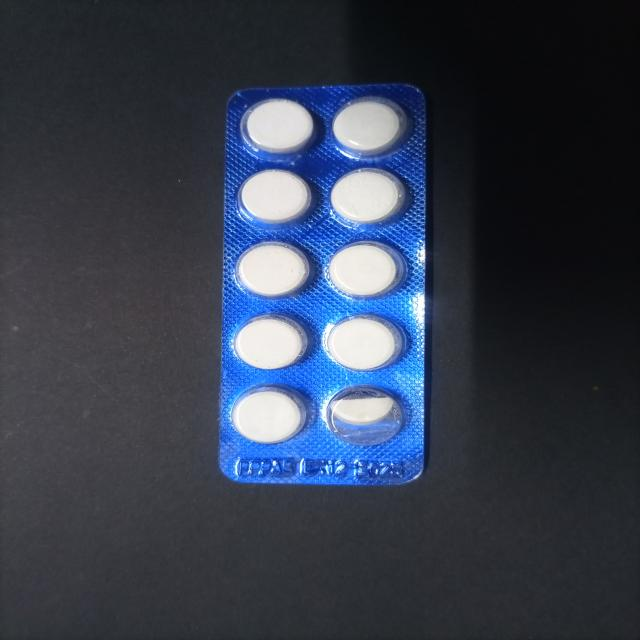defect: (323, 383, 408, 449)
